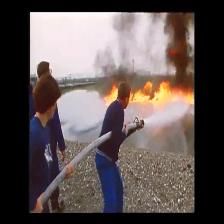fire: (105, 82, 194, 105)
smoke: (165, 13, 193, 79)
